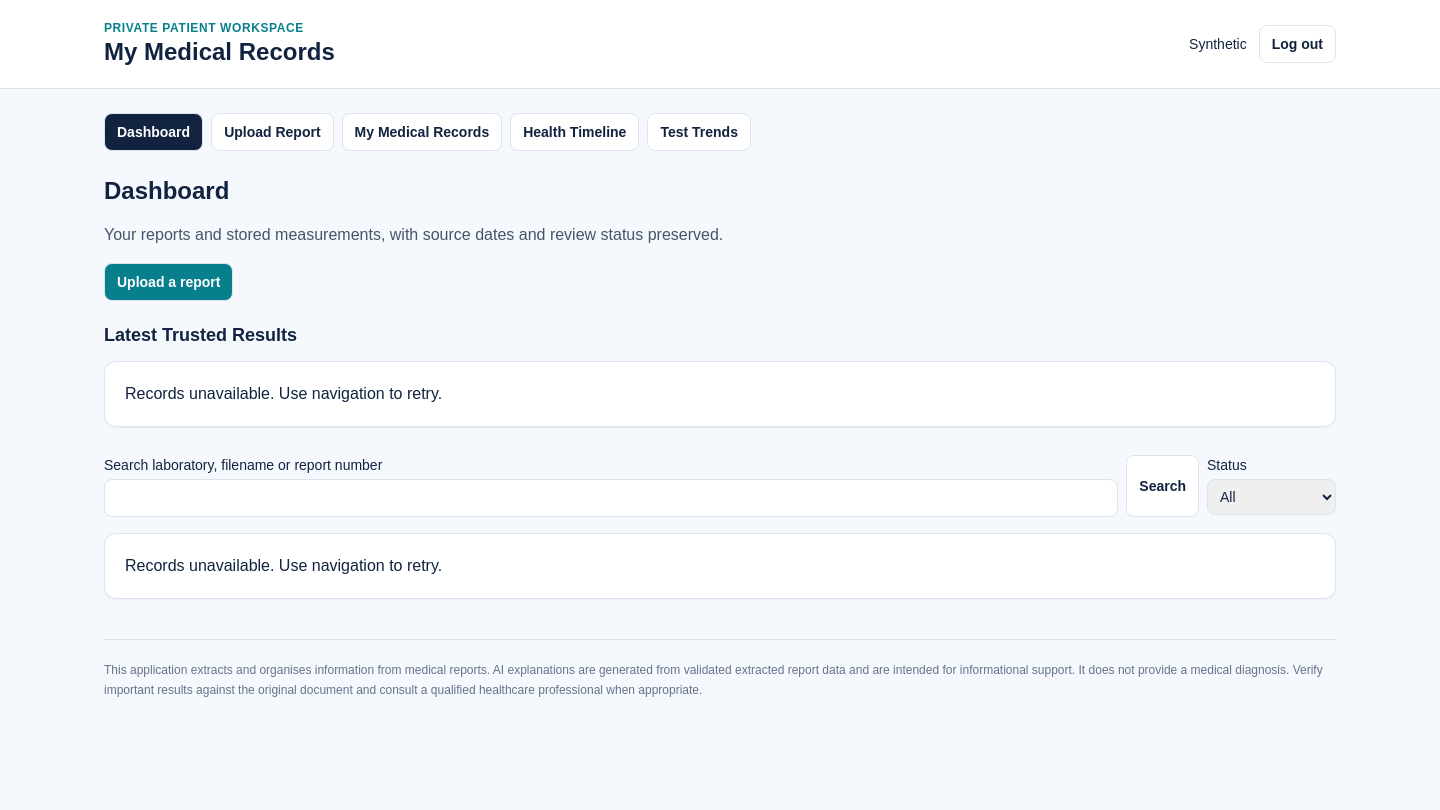
it: shows a recoverable API error without leaking previous patient records
This screenshot has width=1440, height=810.
Expected: the message "Records unavailable. Use navigation to retry." below "Latest Trusted Results" is shown, [125, 385, 274, 402]
Click the button "My Medical Records".
click(422, 132)  # box [342, 113, 502, 151]
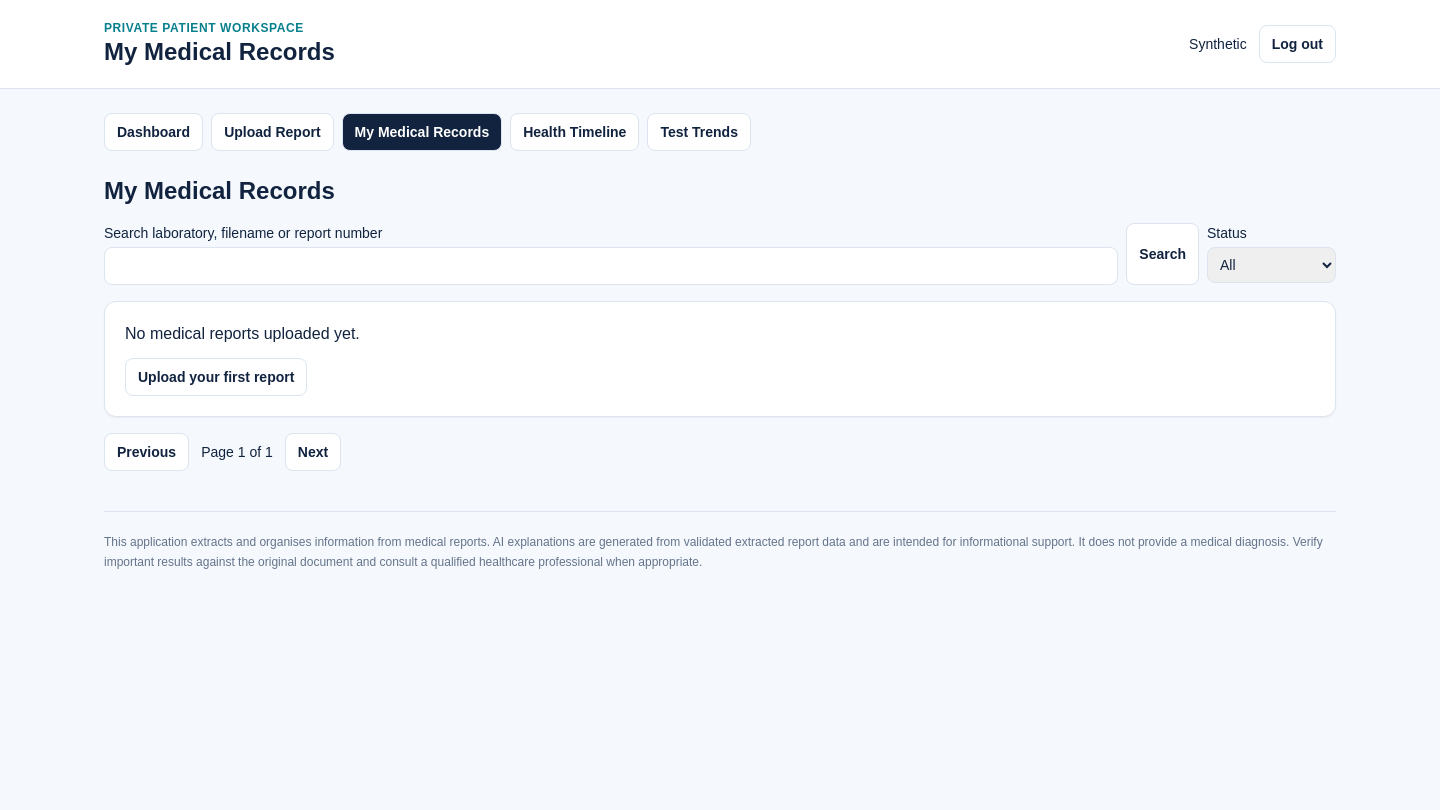
Result: the text "No medical reports uploaded yet." is shown at [125, 325, 360, 342]
